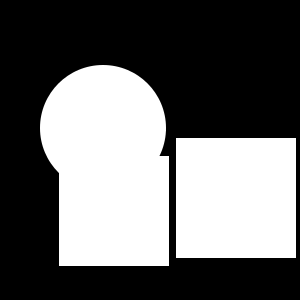circle: (176, 138, 296, 258), (59, 156, 169, 266)
rectangle: (40, 65, 166, 191)
triangle: (121, 86, 166, 131)
